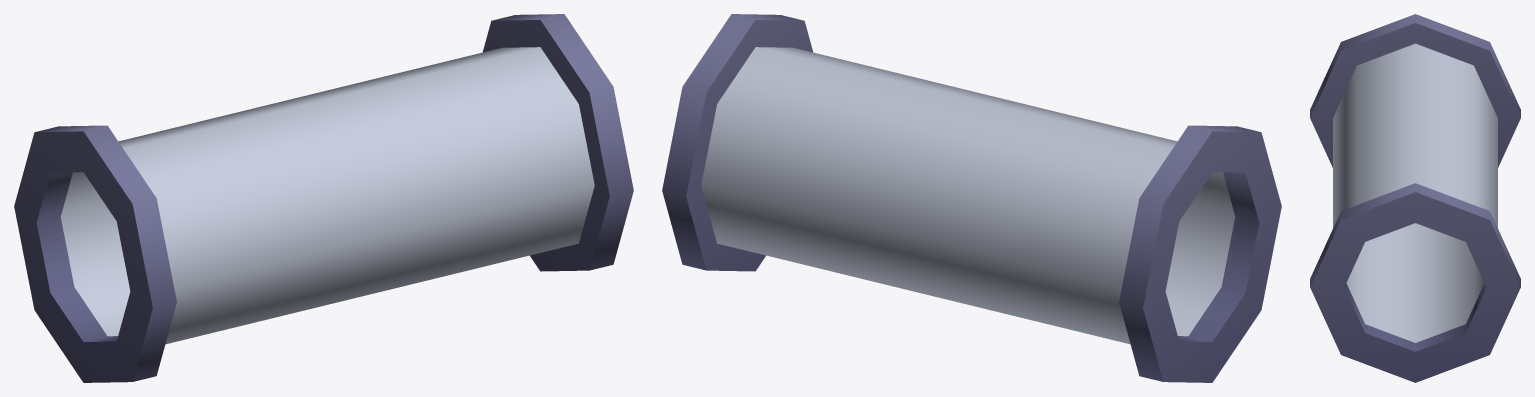
File: kenney-factory-pipe-glass-large-long.glb
The picture shows the model from 3 angles, left to right: view 1: azimuth 30°, elevation 25°; view 2: azimuth 150°, elevation 25°; view 3: azimuth 270°, elevation 25°; orthographic projection. The views are drawn at different scales.
Parts seen in each view (by area): view 1: pipe-glass-large-long; view 2: pipe-glass-large-long; view 3: pipe-glass-large-long.
Part boxes in pixels (x1,y1,x2,y2): pipe-glass-large-long: (14,14,633,382); pipe-glass-large-long: (662,14,1281,382); pipe-glass-large-long: (1310,14,1520,382).
Bounding box in the file's own units: 3 × 1.5 × 1.5.
Materials: 2 (1 with a texture image).
